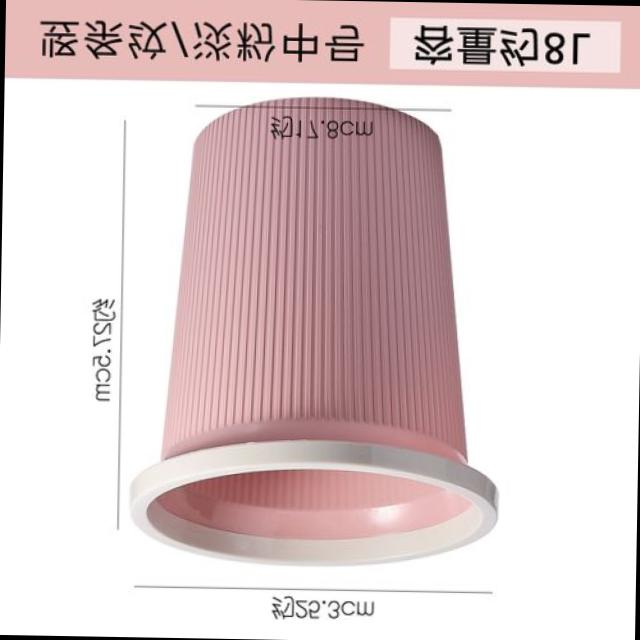dustbin: (122, 89, 514, 578)
